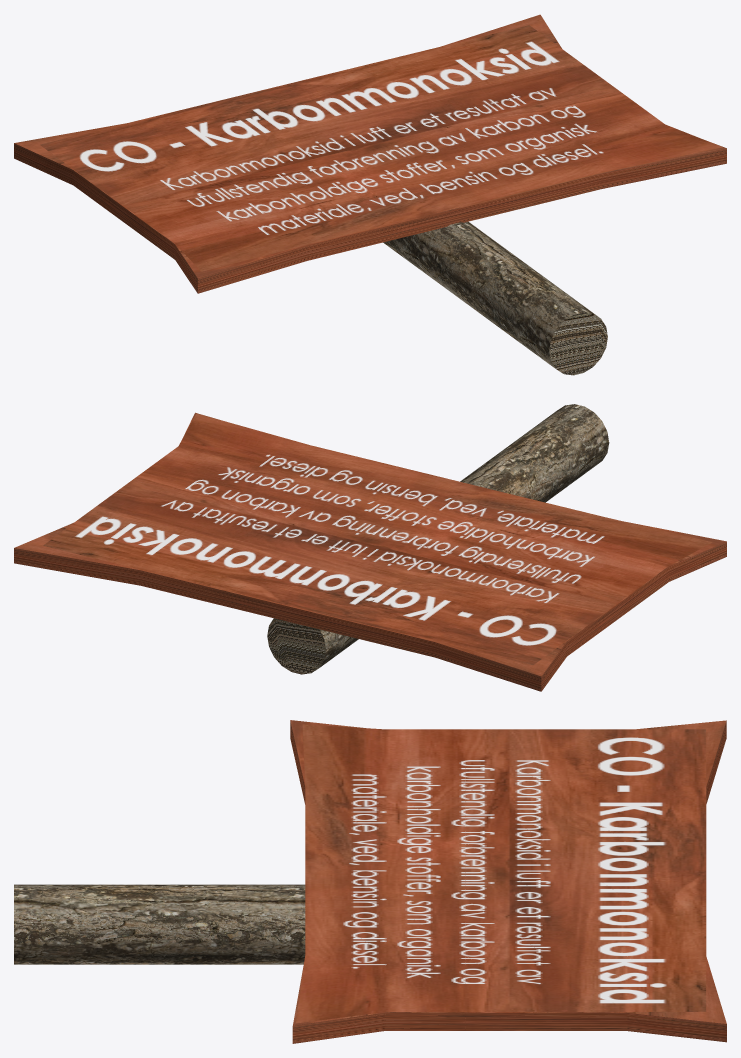
File: CO_attached.FBX
The picture shows the model from 3 angles, top to bottom: view 1: azimuth 30°, elevation 25°; view 2: azimuth 150°, elevation 25°; view 3: azimuth 270°, elevation 25°; orthographic projection. The views are drawn at different scales.
Parts seen in each view (by area): view 1: SkiltCO; view 2: SkiltCO; view 3: SkiltCO.
Part boxes in pixels (box(x1,y1,x2,y2)): SkiltCO: box(14, 14, 726, 375); SkiltCO: box(14, 404, 726, 691); SkiltCO: box(14, 720, 726, 1043).
Bounding box in the file's own units: 108 × 14.69 × 107.
3 materials, 3 textured.
